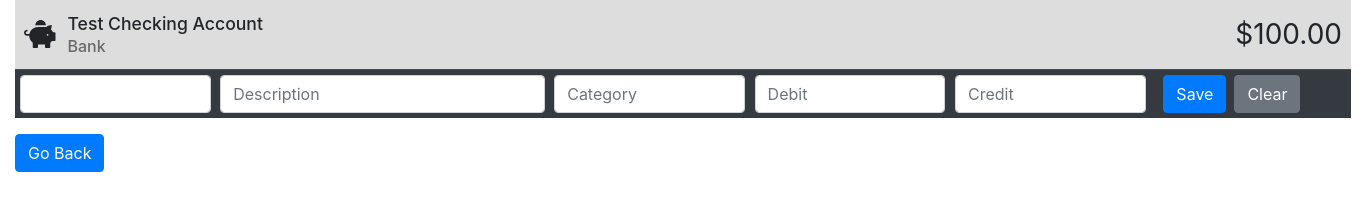
Test: PagesAccountsShow › Add a transaction › Requires that credit is a number
The image size is (1366, 212).
Type "BAD" into the field with placeholder "Credit" at (1050, 94), box x1=955 y1=75 x2=1146 y2=113
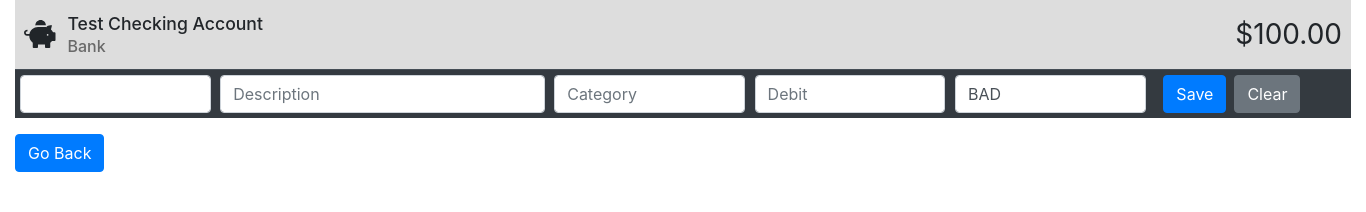
Click the button "Save" at (1195, 94), box x1=1163 y1=75 x2=1226 y2=113
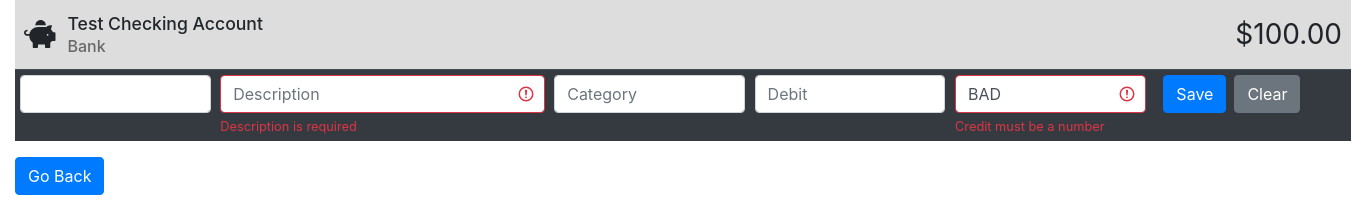
Check: the text with test id "credit-error" reads "Credit must be a number", box x1=955 y1=119 x2=1105 y2=134
